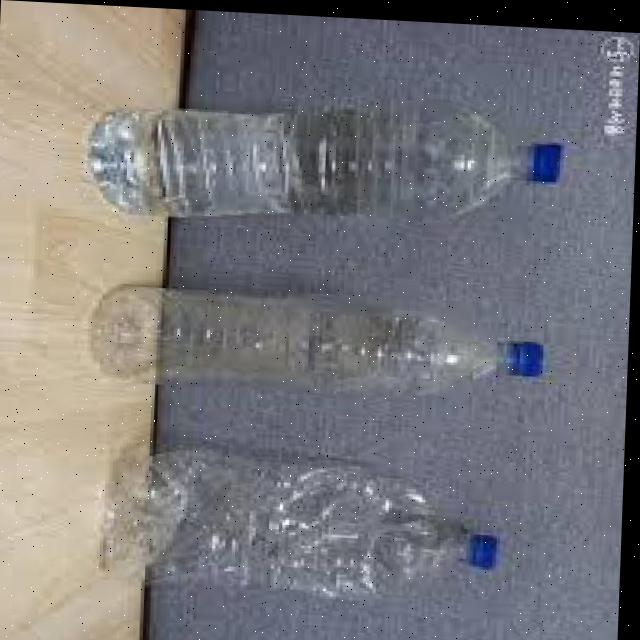bottle: (86, 66, 584, 250), (89, 444, 550, 633), (79, 258, 577, 420)
